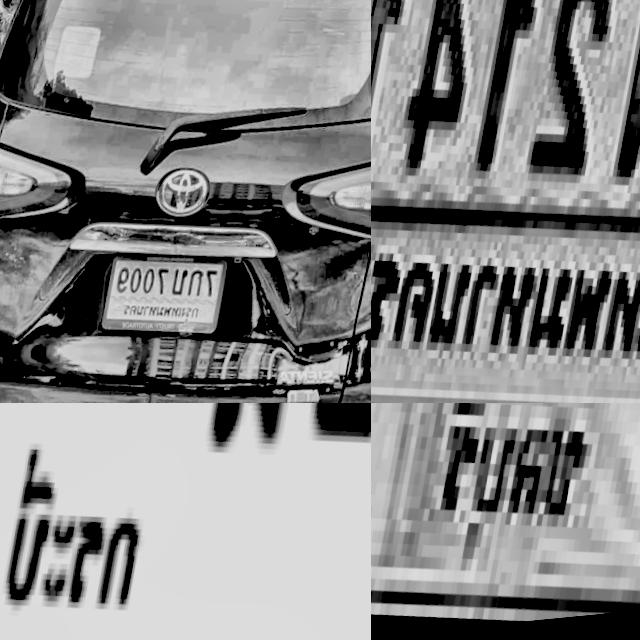license-plate: (371, 0, 640, 403), (0, 403, 371, 640), (371, 403, 640, 640), (101, 247, 234, 352)
